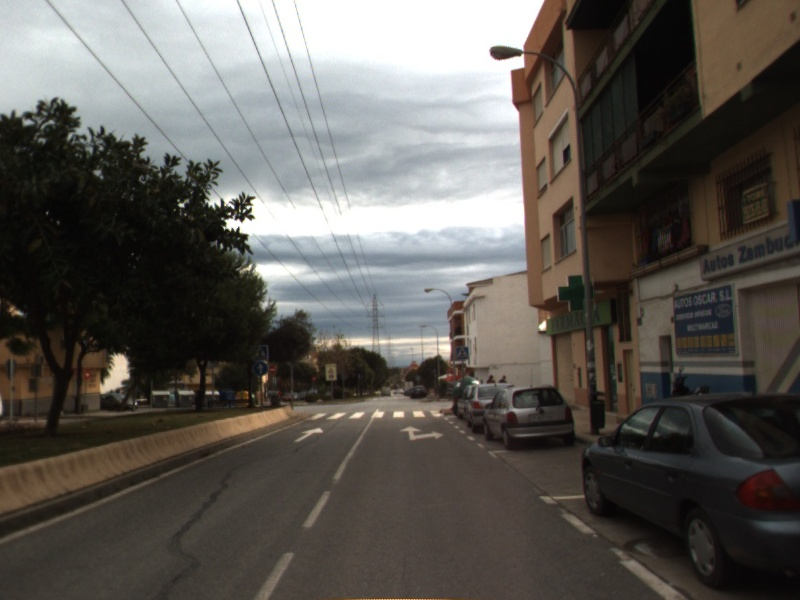STRAIGHT: (292, 425, 326, 444)
STRAIGHT_RIGHT: (398, 424, 446, 442)
